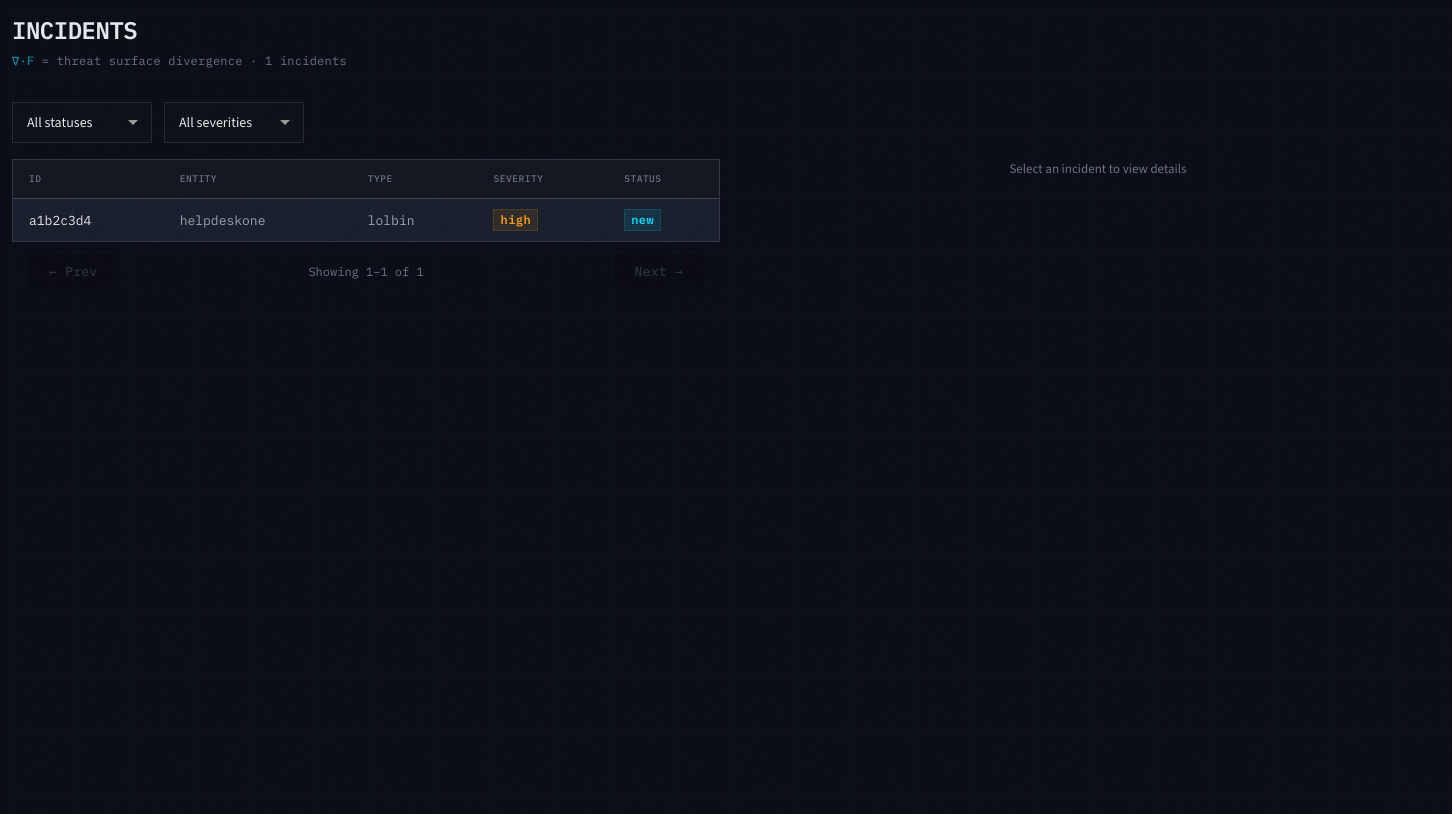
Scenario: SupervisorReportCard (Phase 3, R-1/FR-1/D-10) › round 8 (N-4/N-6) › safeguard_note renders as a banner; the summary is untouched
The width and height of the screenshot is (1452, 814).
Click the text "helpdeskone" at coordinates (258, 220), box [164,199,352,241]
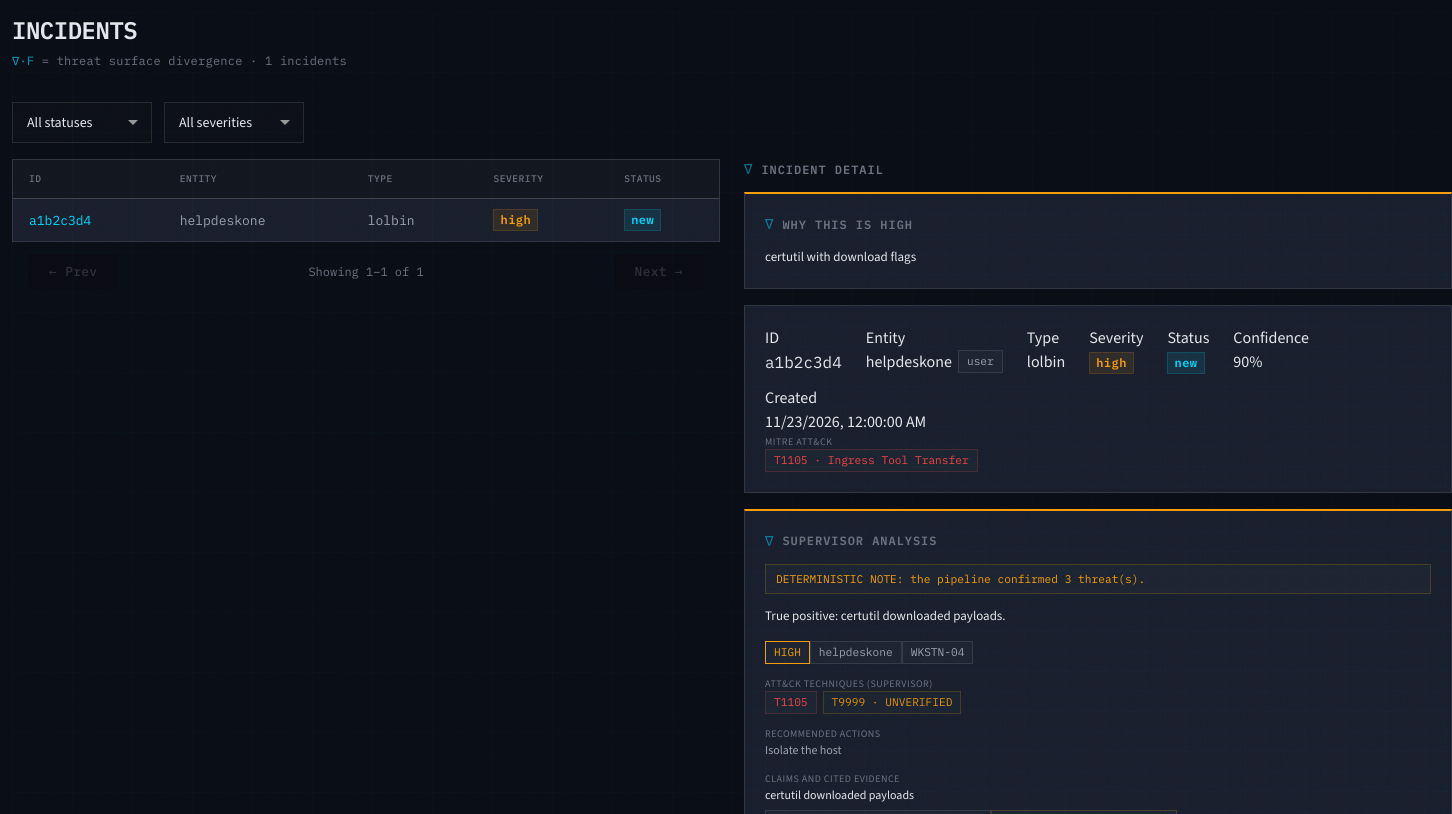
Check: the text "SUPERVISOR ANALYSIS" is shown, box [782,533,937,548]
Check: the text "DETERMINISTIC NOTE: the pipeline confirmed 3 threat(s)." is shown, box [765,564,1431,594]
Check: the text "True positive: certutil downloaded payloads." is shown, box [765,607,1006,624]
